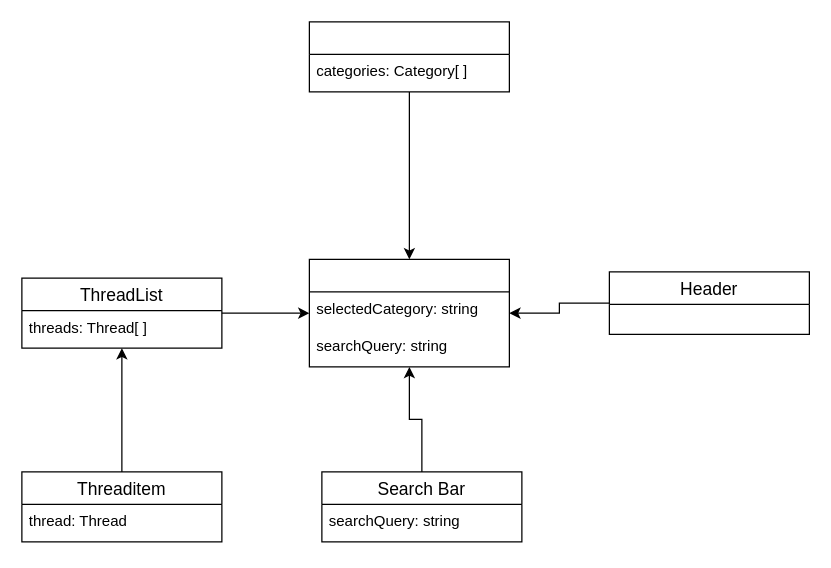
The diagram is 831 pixels wide and 568 high, and some of its shapes have lost their labels. The box of each missing label's shape, as (x1, y1, x2, y2) in pixels:
App: (308, 258, 509, 367)
CategoryList: (308, 21, 509, 92)
